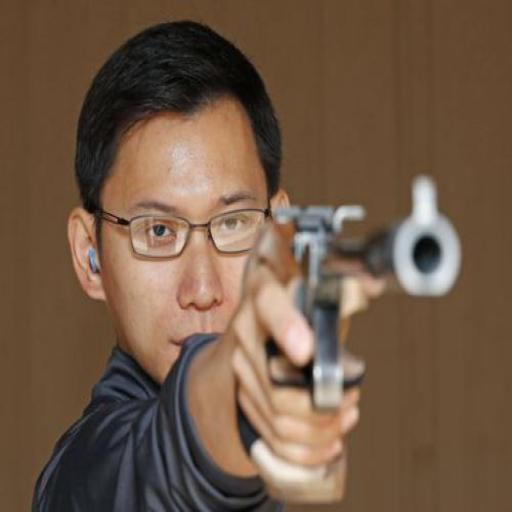shooting: (26, 18, 370, 510)
